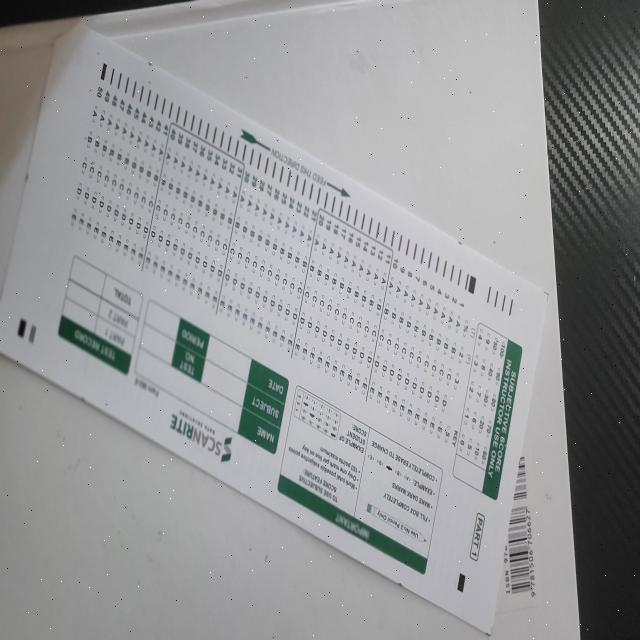scantron: (0, 20, 549, 635)
